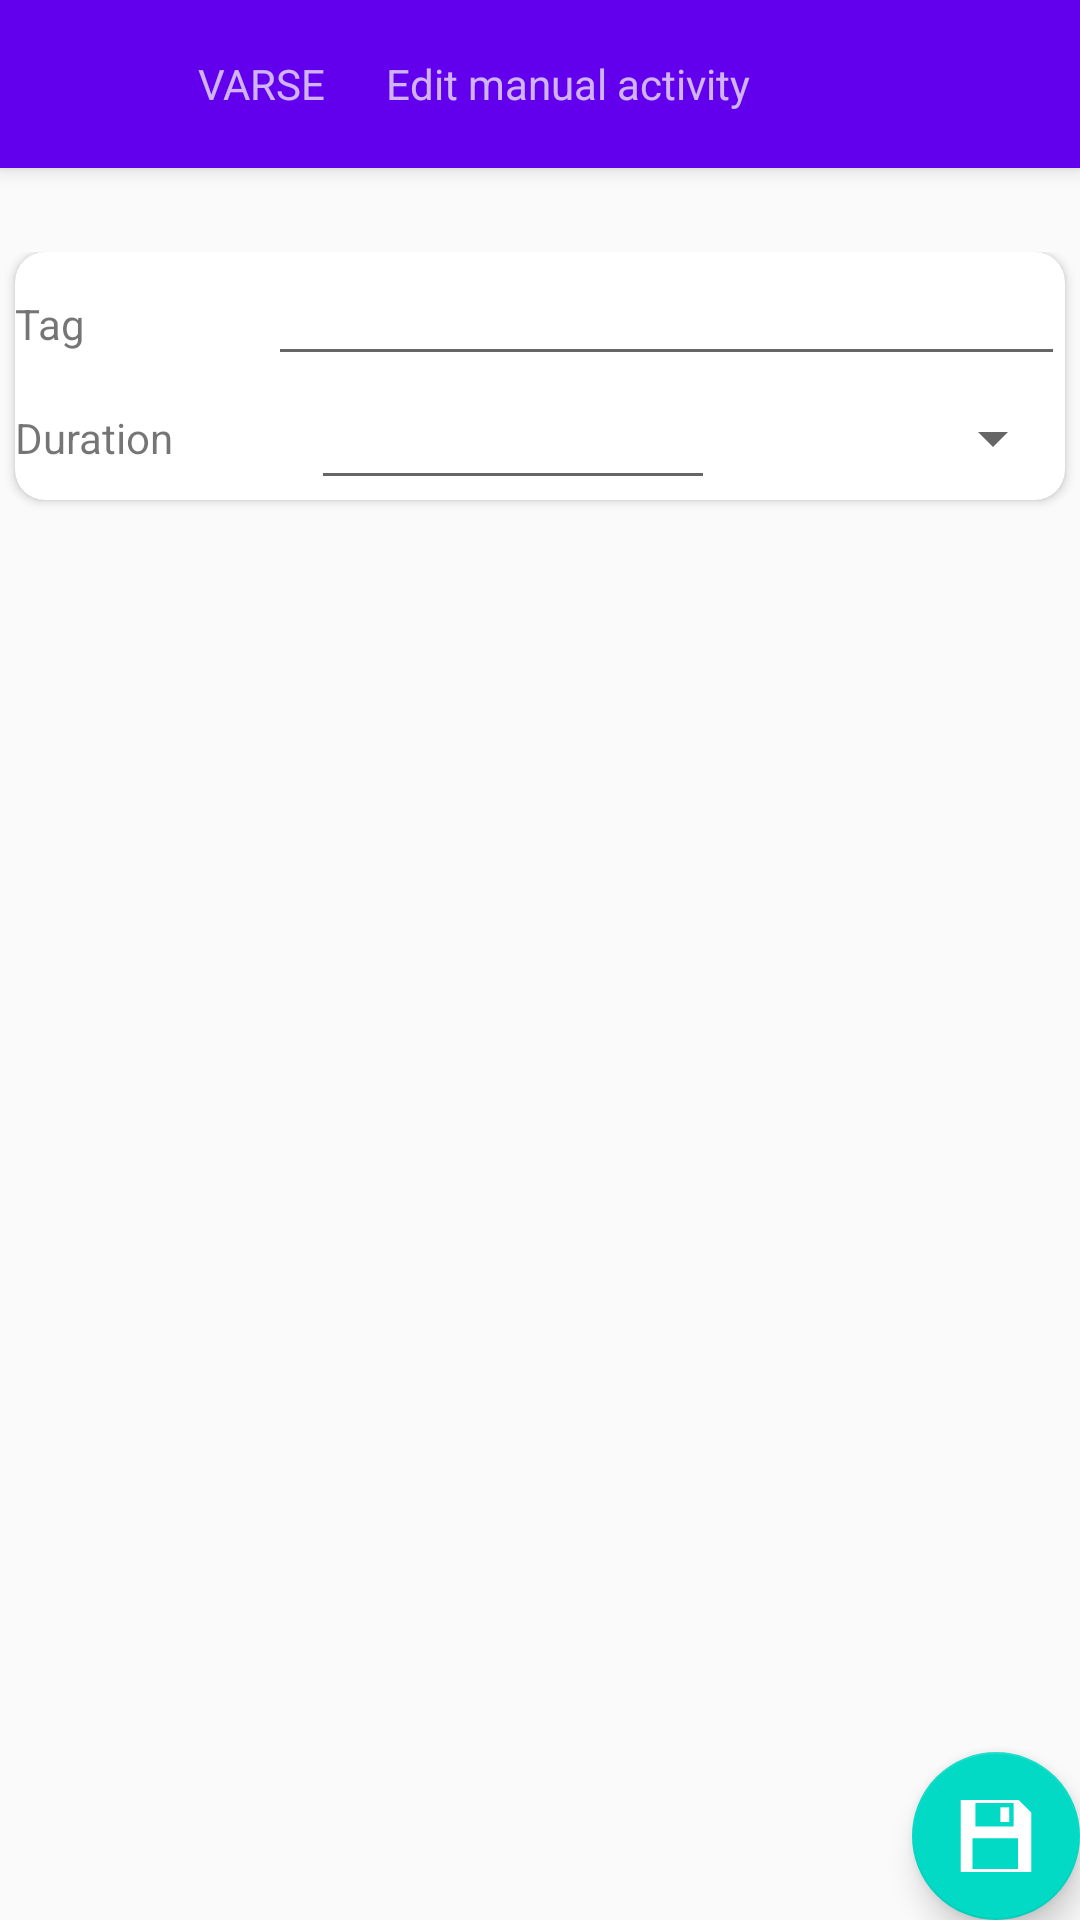

Where to tap for icons on this 1080x1920 app screen, as [x,y]:
save: [996,1836]
